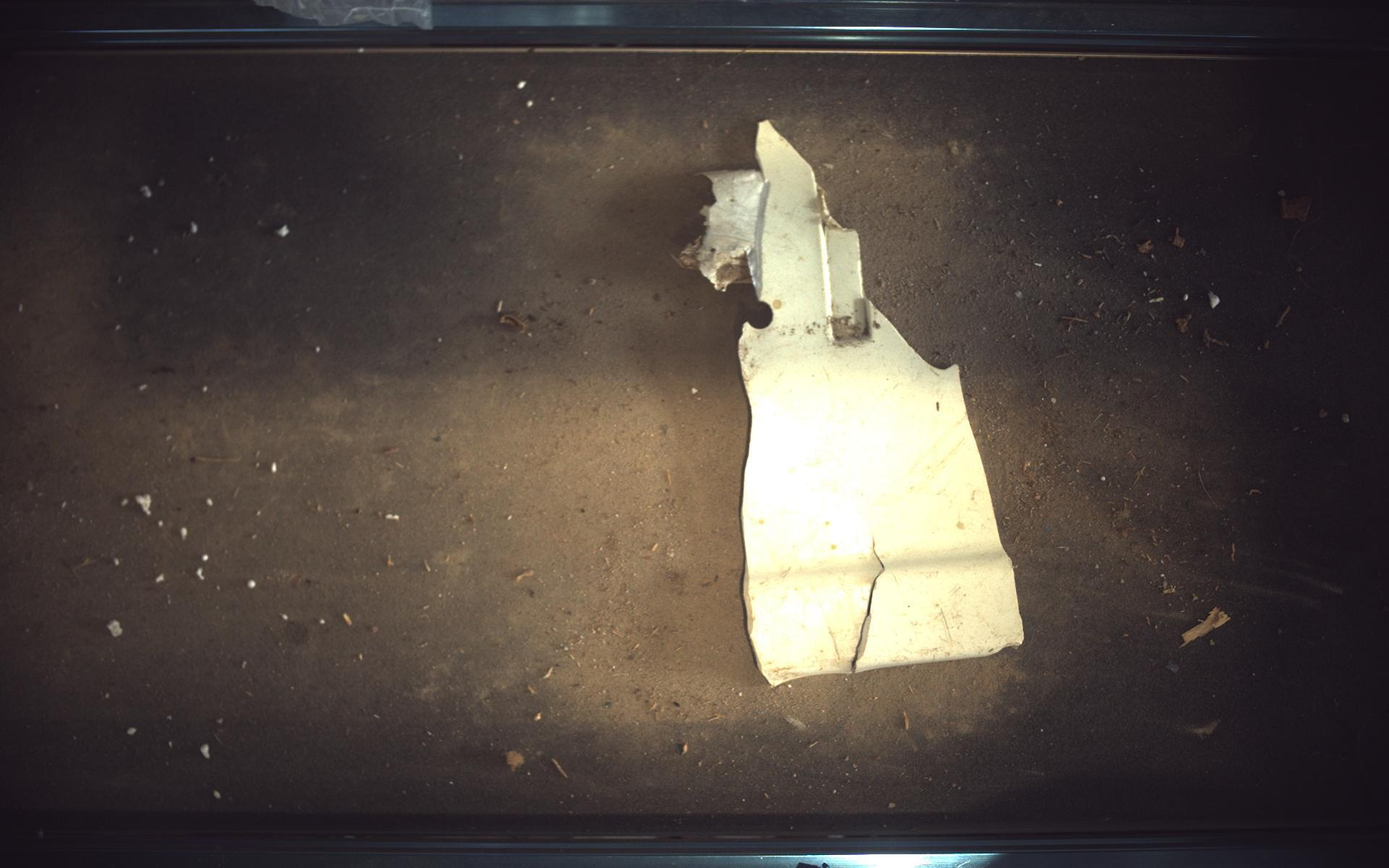plastic: (684, 120, 1026, 686)
